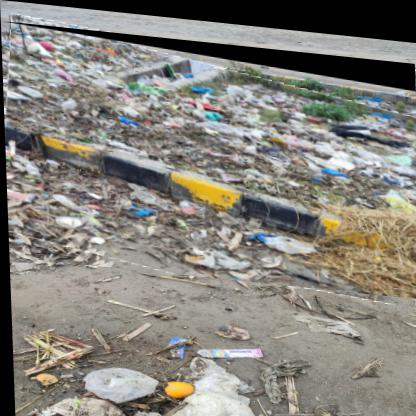Garbage: (1, 22, 416, 293)
